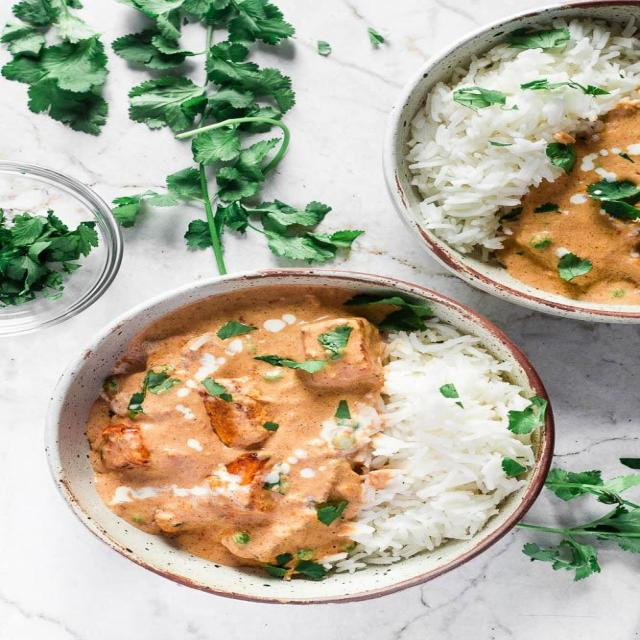rice: (401, 361, 517, 527), (473, 41, 580, 140)
